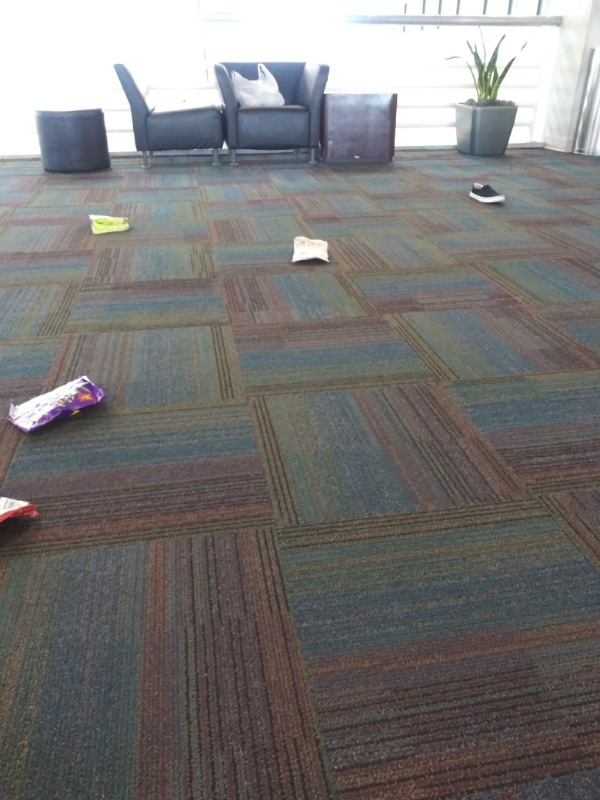bag: (8, 371, 110, 439), (287, 234, 334, 268), (84, 206, 135, 235), (1, 492, 42, 528)
